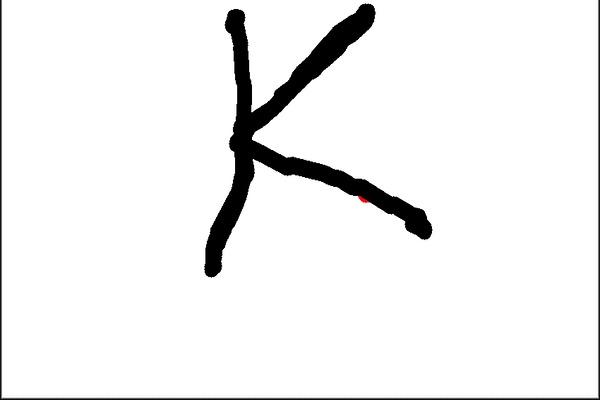K: (190, 0, 438, 290)
